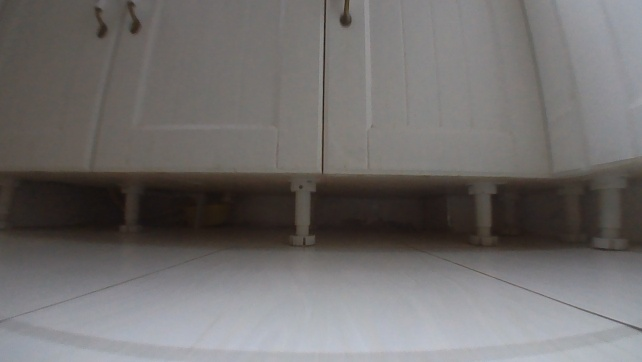cupboard1: (0, 0, 641, 252)
